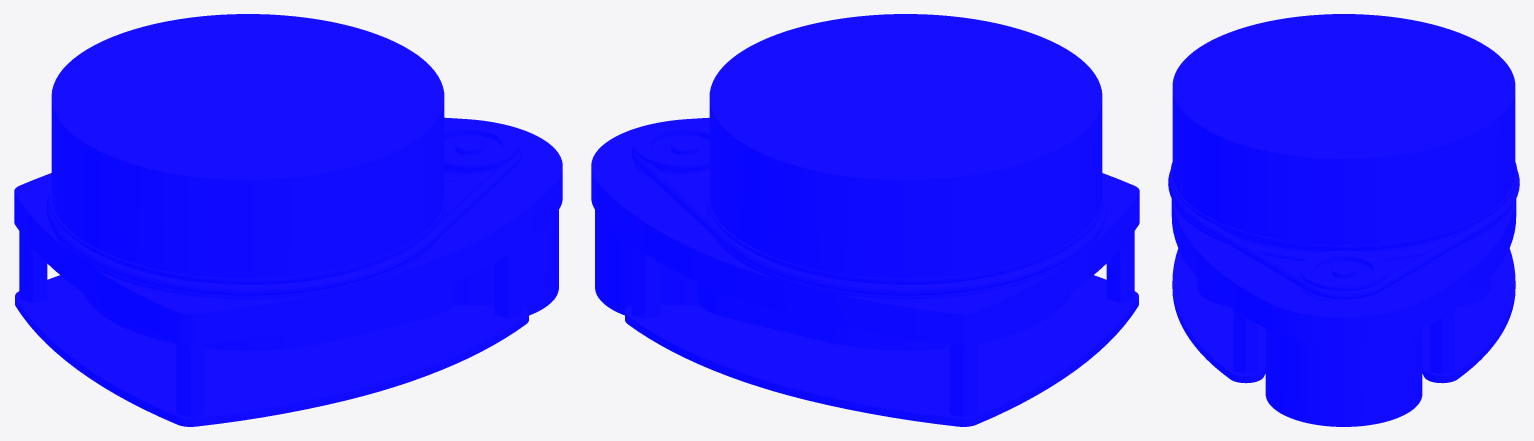
File: ROSCAR2_LiDAR.dae
3 renders of one model, left to right at view 1: azimuth 30°, elevation 25°; view 2: azimuth 150°, elevation 25°; view 3: azimuth 270°, elevation 25°, orthographic. The views are drawn at different scales.
Visible parts, largest first — view 1: CATIA STL; view 2: CATIA STL; view 3: CATIA STL.
Part boxes in pixels (x1,y1,x2,y2): CATIA STL: (14,14,562,426); CATIA STL: (591,14,1139,426); CATIA STL: (1168,14,1519,426).
Size of the model in its own units: 97.53 by 71.76 by 49.9.
